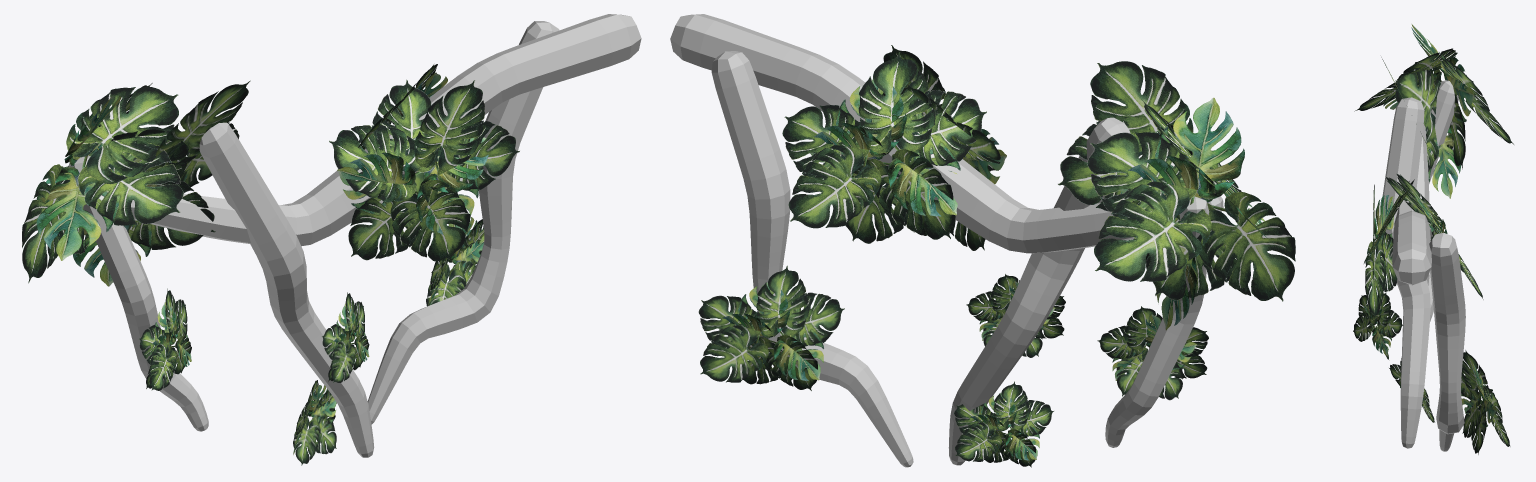
Rendered from VineShadeFlat.fbx.
3 views of the same model, side by side, from view 1: azimuth 30°, elevation 25°; view 2: azimuth 150°, elevation 25°; view 3: azimuth 270°, elevation 25° (orthographic). The views are drawn at different scales.
Parts seen in each view (by area): view 1: Leaves, Vines; view 2: Leaves, Vines; view 3: Vines, Leaves.
Part boxes in pixels (x1=…): Leaves: x1=22, y1=64, x2=519, y2=465; Vines: x1=68, y1=14, x2=641, y2=457; Leaves: x1=698, y1=45, x2=1295, y2=467; Vines: x1=670, y1=14, x2=1223, y2=467; Vines: x1=1379, y1=80, x2=1465, y2=451; Leaves: x1=1353, y1=24, x2=1513, y2=454.
Size of the model in its own units: 14.69 by 9.81 by 4.92.
